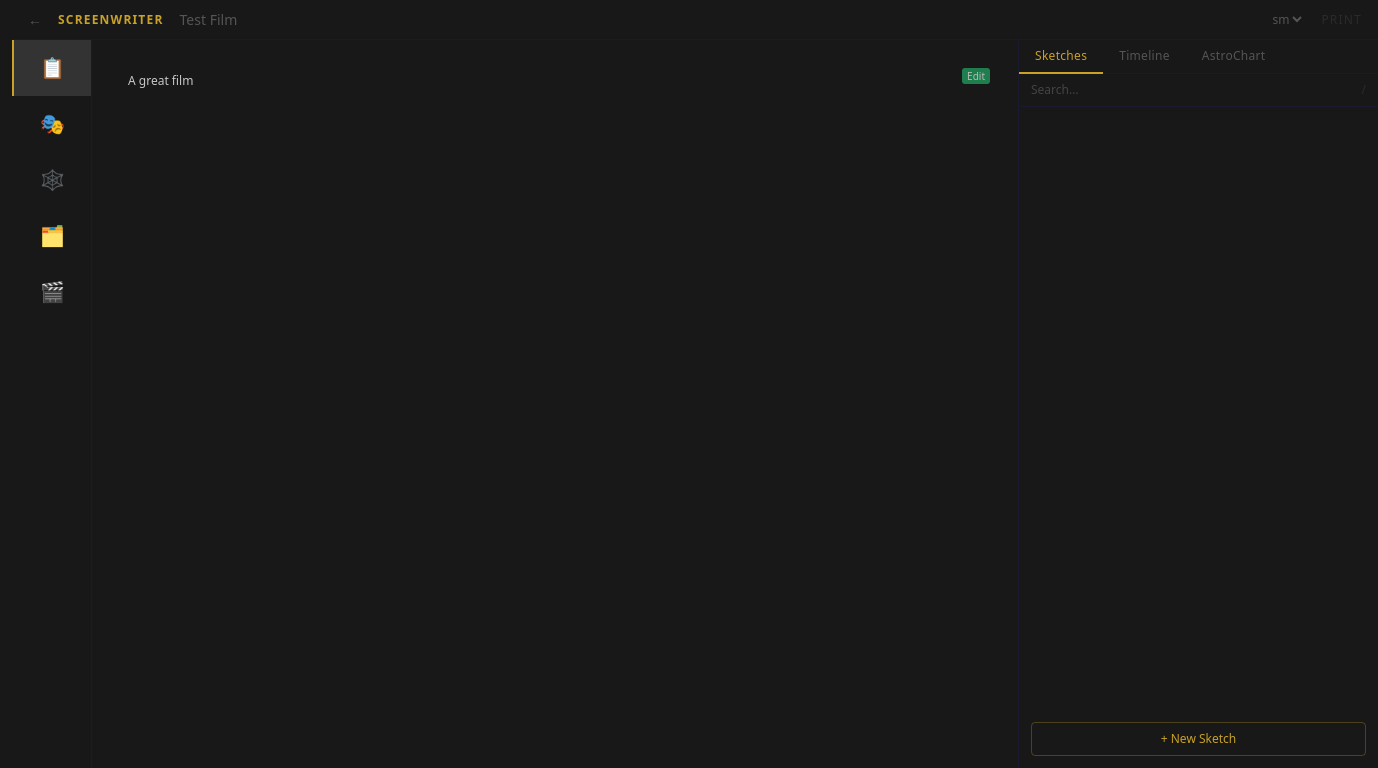
SceneEditor › switches to ActsPanel when Acts icon is clicked
Click the button titled "Acts".
click(52, 236)  # box [12, 208, 91, 264]
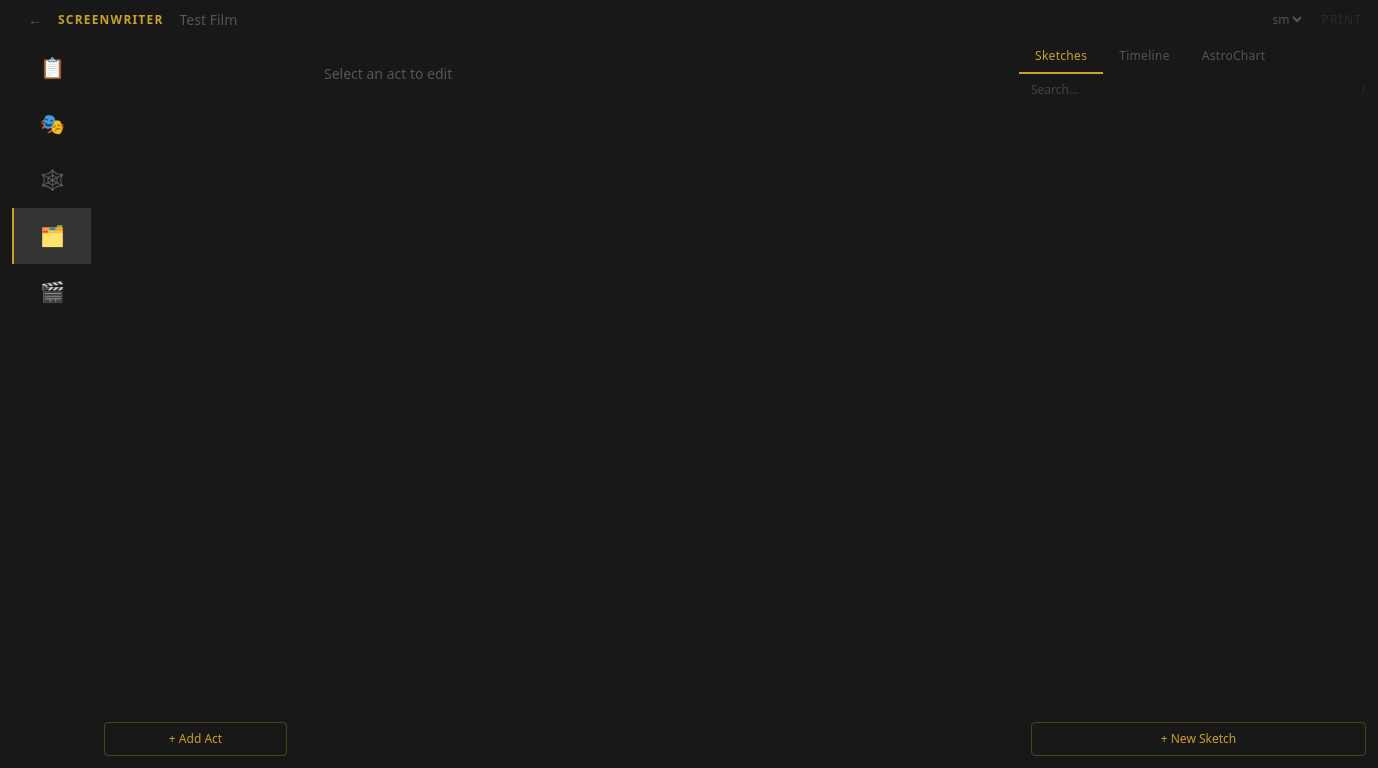
Expected: the text "Select an act to edit" is shown, [324, 64, 452, 83]
